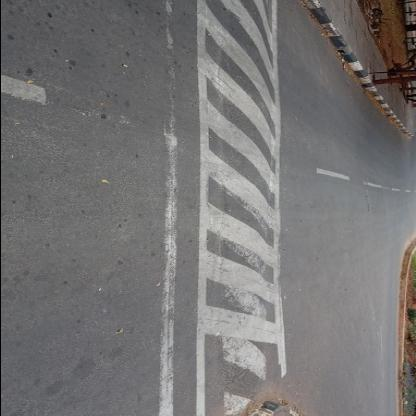speed-bumps: (173, 1, 295, 415)
